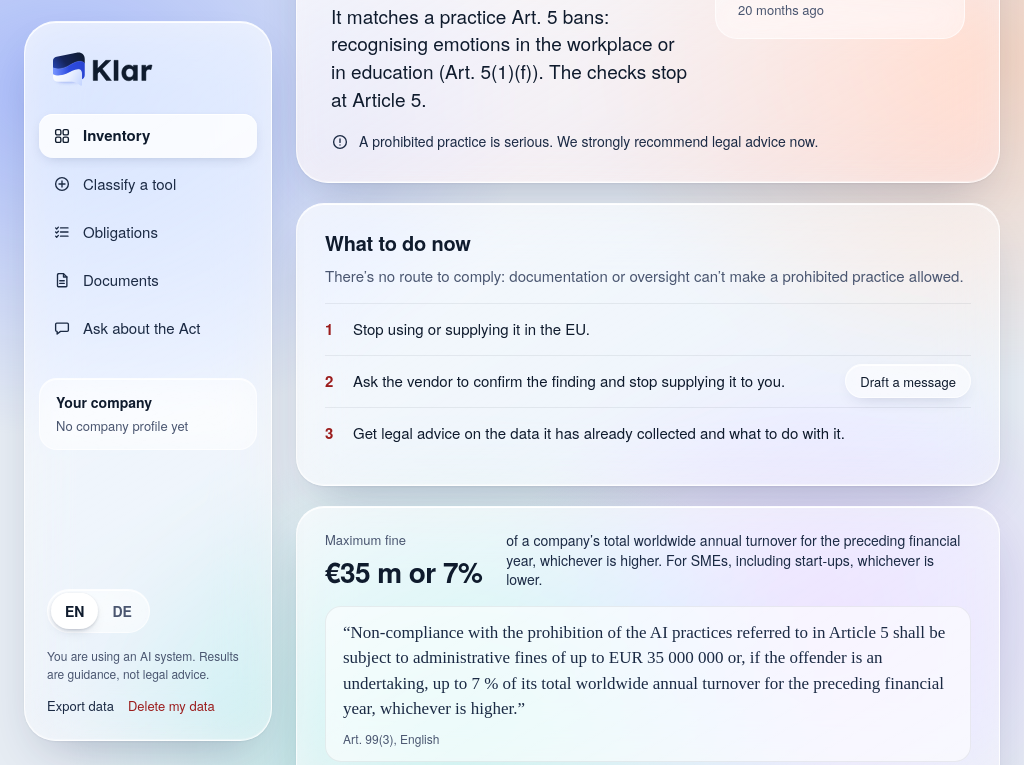
Test: A recorded prohibited result (en) › copies the message as plain text, naming the tool, for the user’s own email
(page scrolled)
Click the button "Draft a message": [908, 382] box [845,364,971,398]
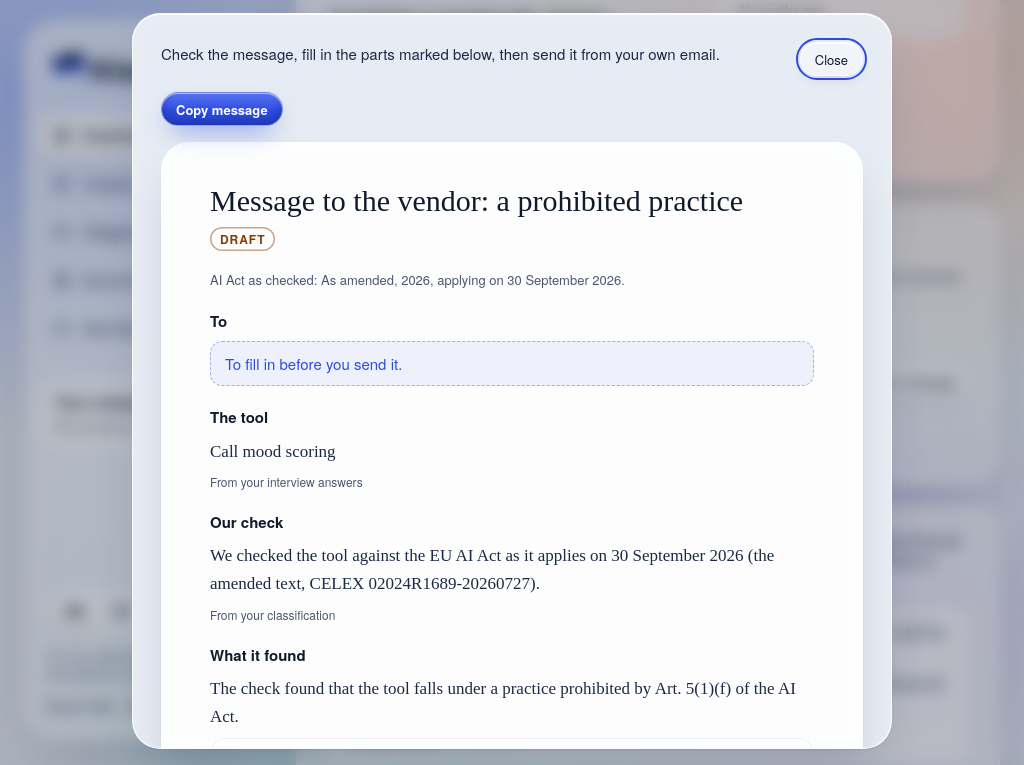
Click the button "Copy message": [222, 109] box [161,92,283,126]
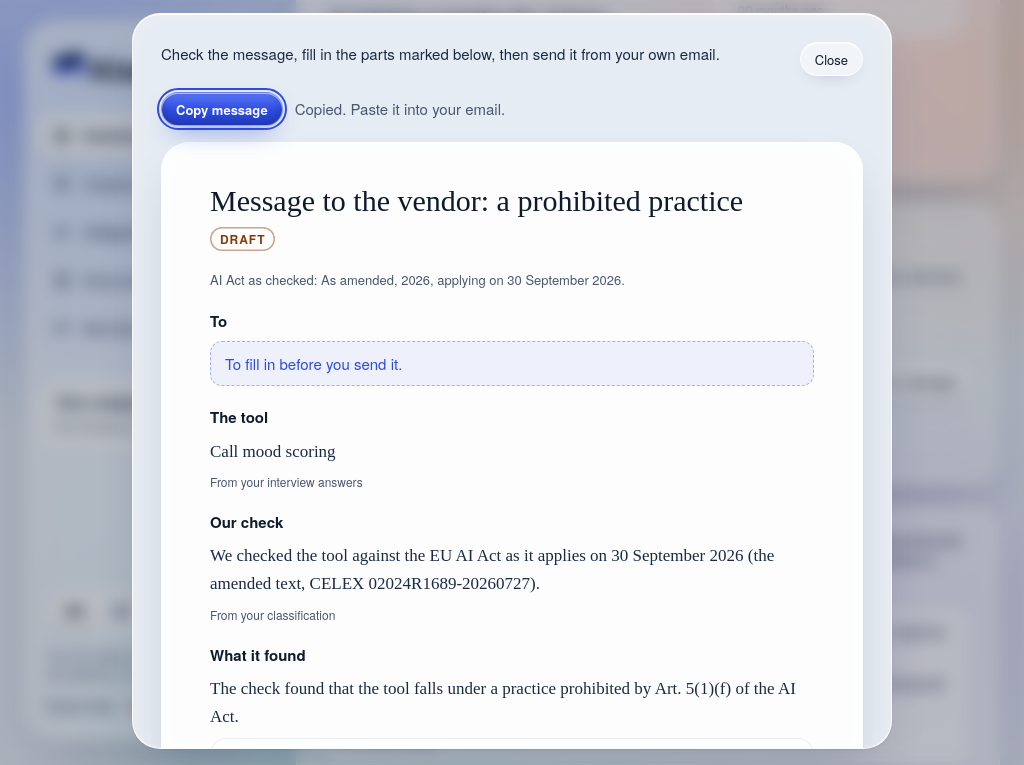
Expected: the text "Copied. Paste it into your email." is shown, [295,97,505,121]
